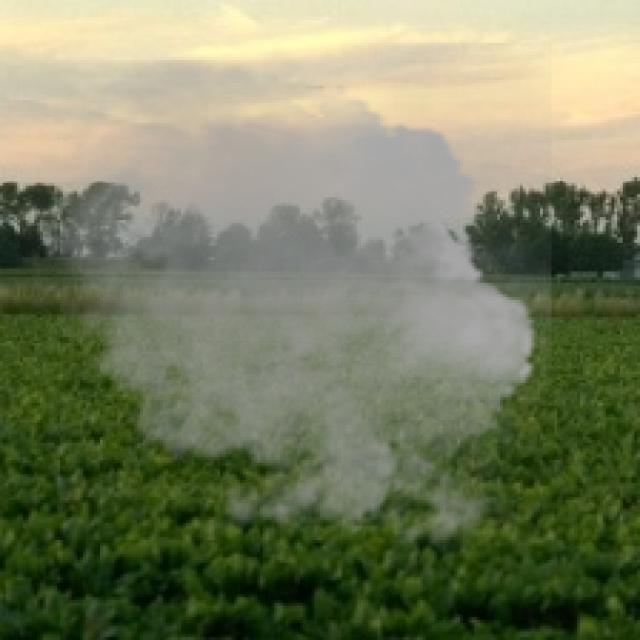smoke: (17, 43, 552, 563)
